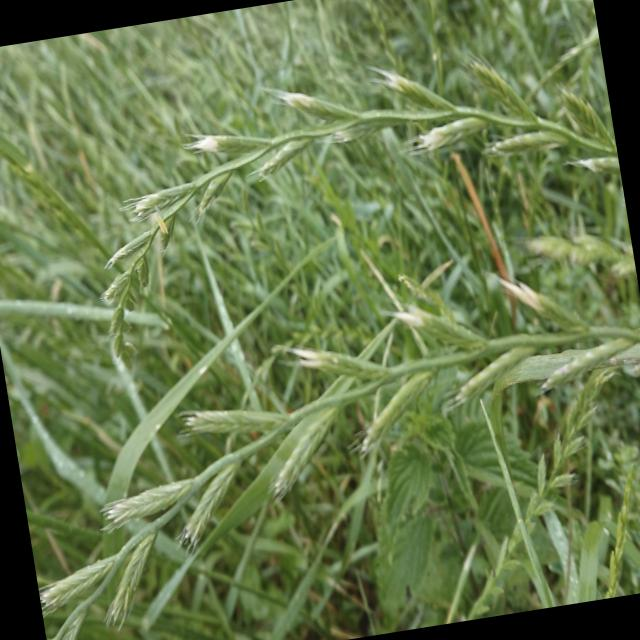Lolium: (9, 287, 640, 640), (74, 31, 636, 355)
